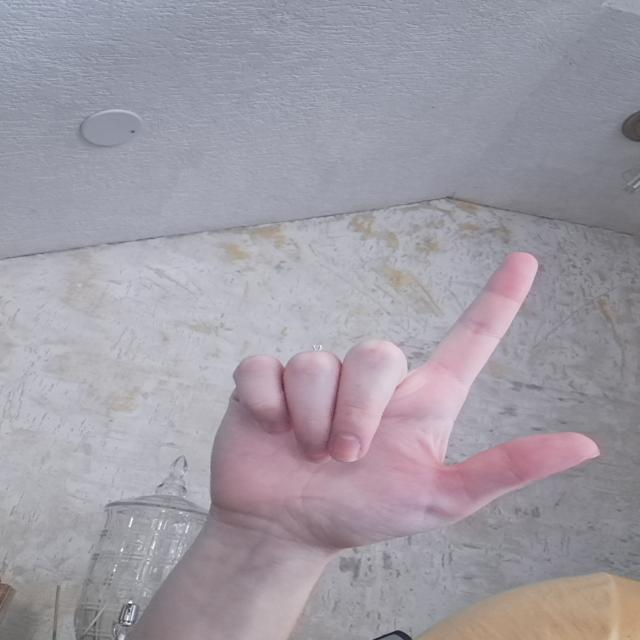L: (198, 239, 606, 575)
